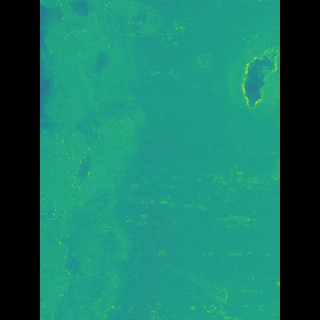Loch: (69, 0, 162, 320), (214, 37, 249, 122)
